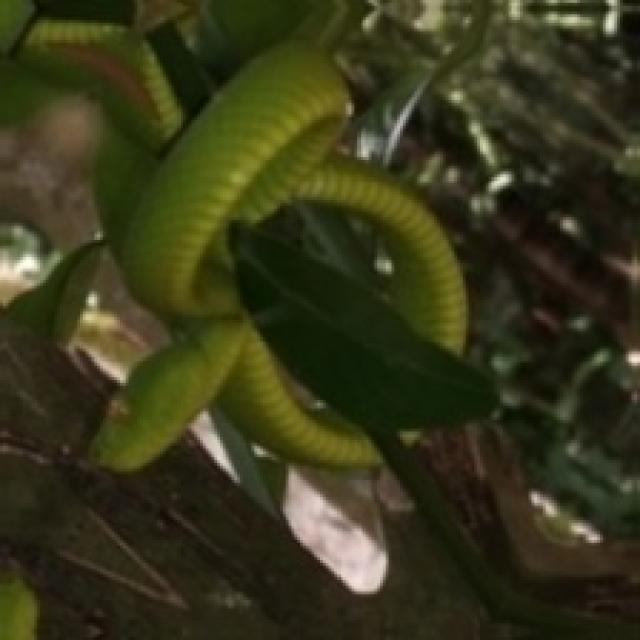north ph temple pitviper: (0, 0, 463, 469)
